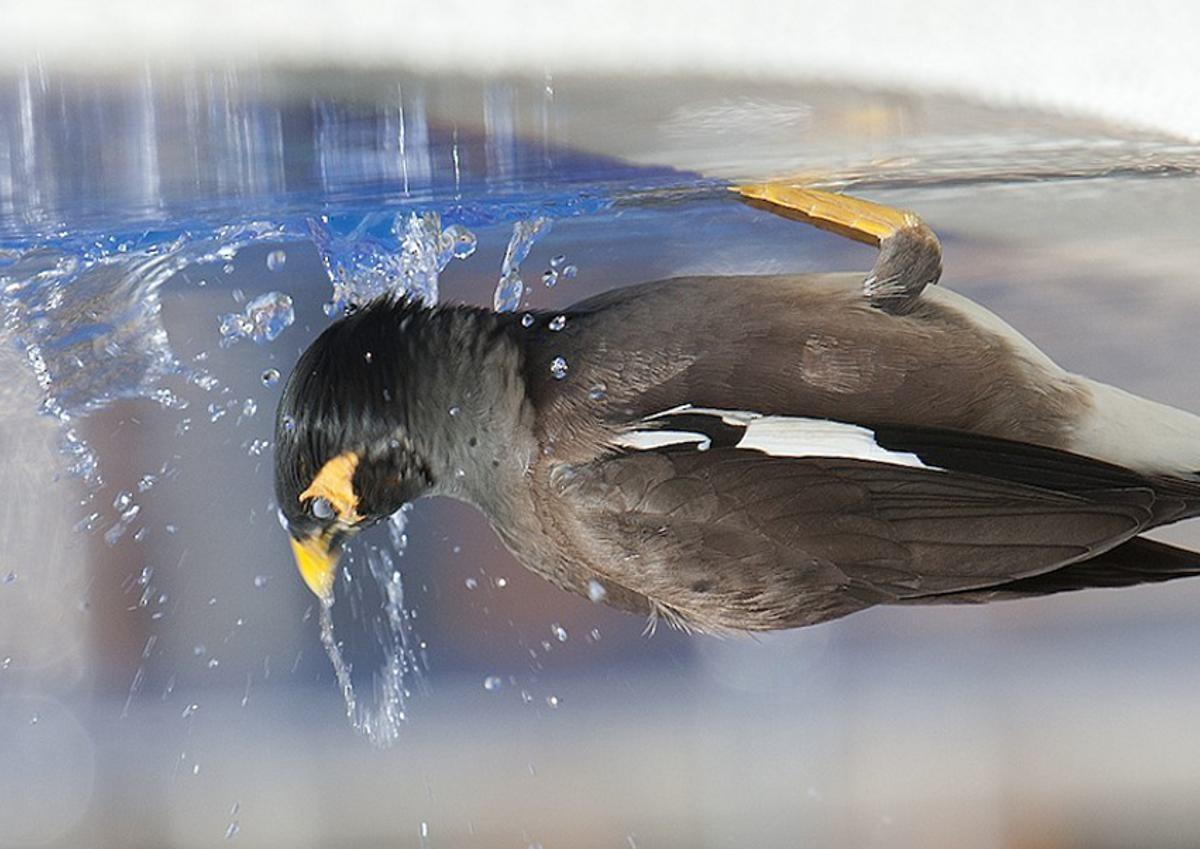myna: (277, 250, 1070, 650)
